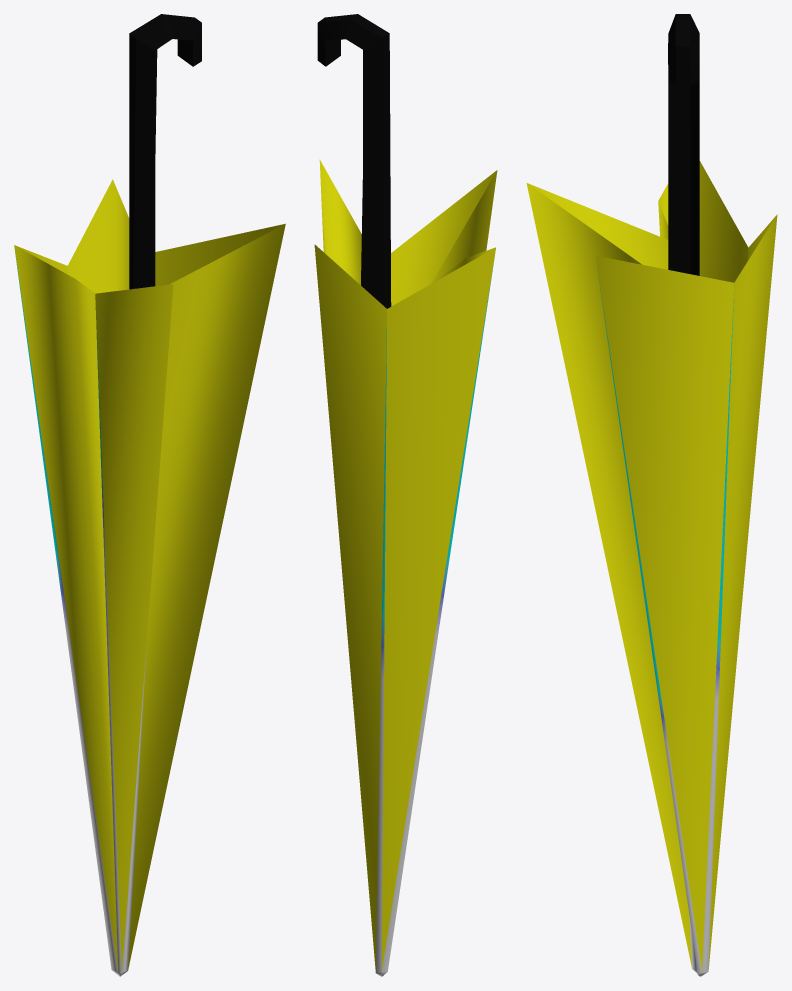
Rendered from Umbrella.glb.
3 views of the same model, side by side, from view 1: azimuth 30°, elevation 25°; view 2: azimuth 150°, elevation 25°; view 3: azimuth 270°, elevation 25° (orthographic). The views are drawn at different scales.
Visible parts, largest first — view 1: umbrela_01_geo; view 2: umbrela_01_geo; view 3: umbrela_01_geo.
Part boxes in pixels (box(x1,y1,x2,y2)): umbrela_01_geo: box(14, 14, 285, 976); umbrela_01_geo: box(314, 14, 497, 976); umbrela_01_geo: box(526, 14, 777, 976).
Size of what is drawn, in the model's own units: 0.3521 by 1.43 by 0.3331.
Materials: 1 (1 with a texture image).
